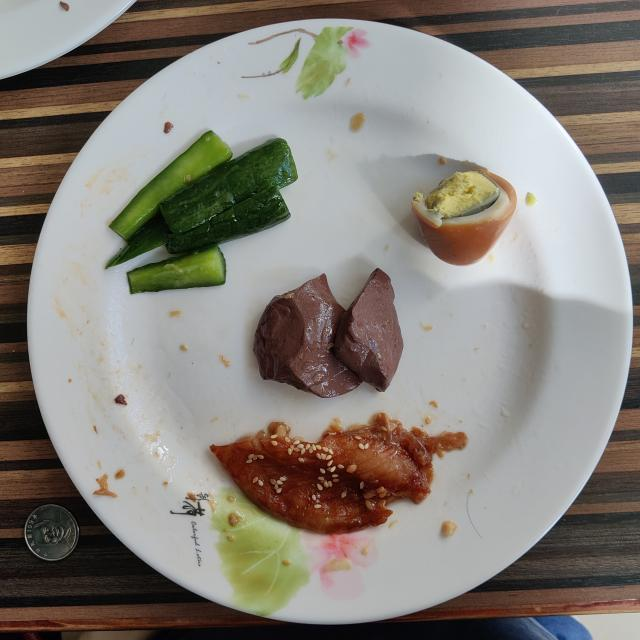Kabayaki sea bream fillet: (210, 412, 468, 534)
coin: (25, 505, 79, 561)
cucumber: (108, 131, 298, 292)
pig blood curd: (254, 269, 404, 398)
soy egg: (411, 169, 516, 265)
